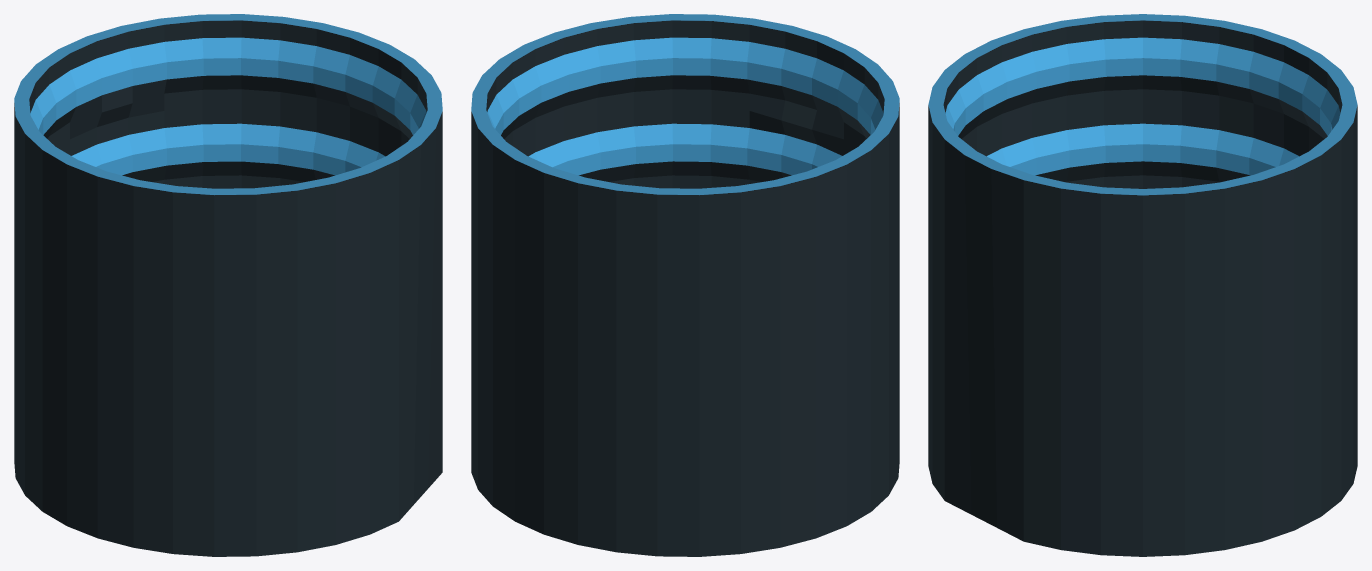
The picture shows the model from 3 angles, left to right: view 1: azimuth 30°, elevation 25°; view 2: azimuth 150°, elevation 25°; view 3: azimuth 270°, elevation 25°; orthographic projection.
Visible parts, largest first — view 1: 円柱; view 2: 円柱; view 3: 円柱.
Part boxes in pixels (x1,y1,x2,y2): 円柱: (14,14,442,556); 円柱: (471,14,899,556); 円柱: (928,14,1357,556).
Size of the model in its own units: 101 by 94 by 101.
